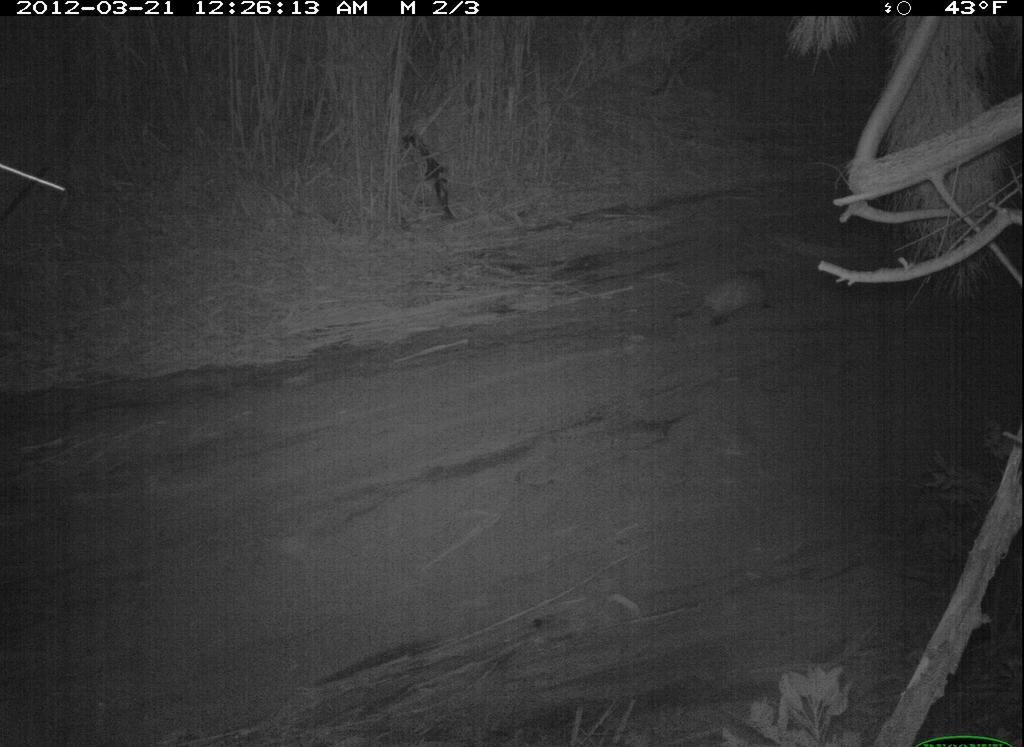opossum: (669, 260, 785, 342)
